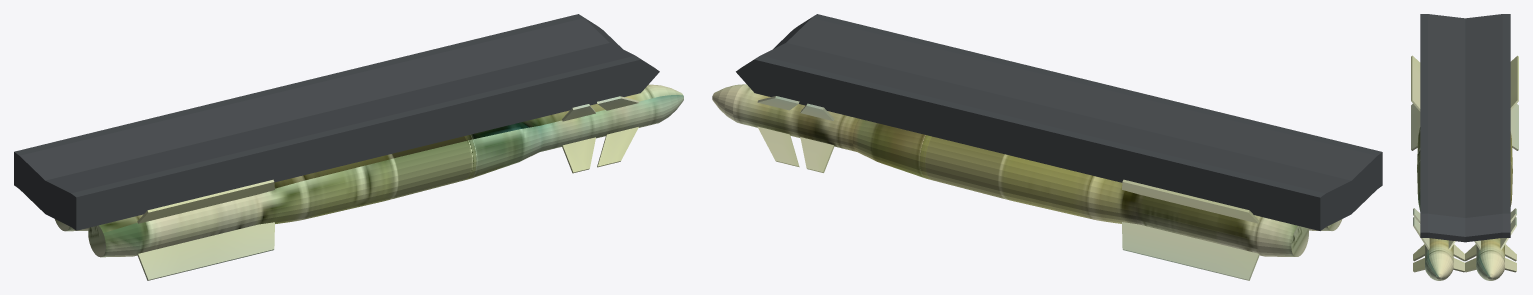
The model's file is m20daasm4.glb.
The picture shows the model from 3 angles, left to right: view 1: azimuth 30°, elevation 25°; view 2: azimuth 150°, elevation 25°; view 3: azimuth 270°, elevation 25°; orthographic projection. The views are drawn at different scales.
Visible parts, largest first — view 1: 立方体.002, 円柱.009; view 2: 立方体.002, 円柱.007; view 3: 立方体.002, 円柱.009, 円柱.007.
Boxes of the visible parts, left/top/right/bottom form: 立方体.002: left=14, top=14, right=659, bottom=230; 円柱.009: left=88, top=84, right=683, bottom=280; 立方体.002: left=736, top=14, right=1382, bottom=230; 円柱.007: left=712, top=84, right=1308, bottom=280; 立方体.002: left=1420, top=14, right=1510, bottom=242; 円柱.009: left=1411, top=55, right=1464, bottom=280; 円柱.007: left=1465, top=55, right=1518, bottom=280.
Bounding box in the file's own units: 2.46 × 0.3618 × 0.5099.
3 materials, 2 textured.
